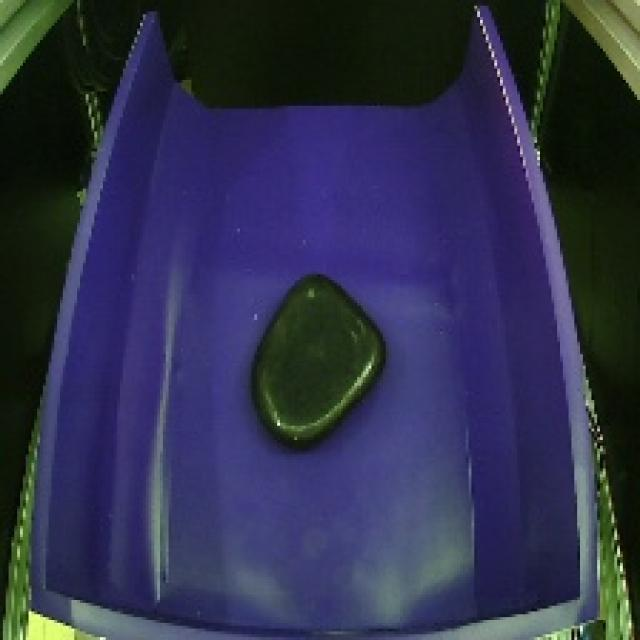cobbles: (234, 260, 399, 452)
